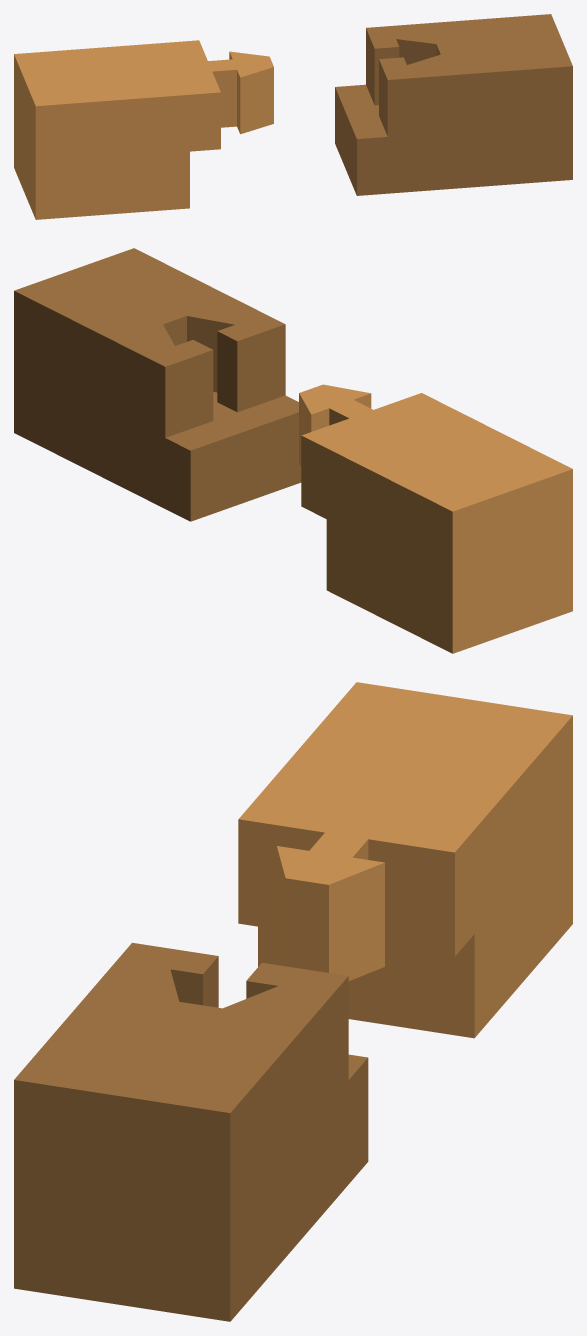
3 views of the same model, one above another, from view 1: azimuth 30°, elevation 25°; view 2: azimuth 150°, elevation 25°; view 3: azimuth 270°, elevation 25° (orthographic). The views are drawn at different scales.
Bounding box in the file's own units: 1.43 × 0.323 × 0.7841.
